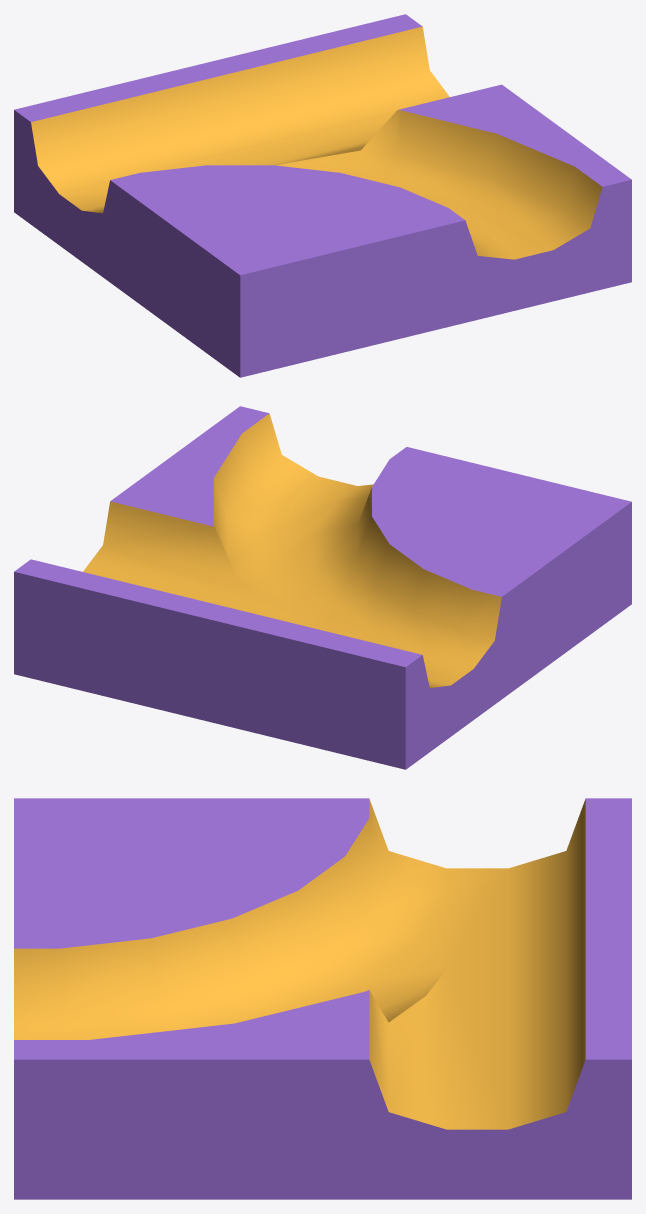
The model's file is kenney-marble-split-solid-right.glb.
3 renders of one model, top to bottom at view 1: azimuth 30°, elevation 25°; view 2: azimuth 150°, elevation 25°; view 3: azimuth 270°, elevation 25°, orthographic. The views are drawn at different scales.
Parts seen in each view (by area): view 1: split-solid-right; view 2: split-solid-right; view 3: split-solid-right.
Boxes of the visible parts, x1=… form: split-solid-right: x1=14, y1=14, x2=631, y2=377; split-solid-right: x1=14, y1=406, x2=631, y2=769; split-solid-right: x1=14, y1=798, x2=631, y2=1199.
Size of the model in its own units: 2 by 0.5001 by 2.
1 material, 1 textured.
